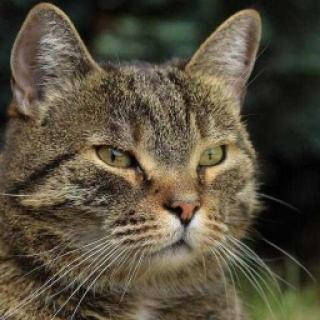cat: (4, 4, 278, 298)
nose: (160, 177, 203, 225)
